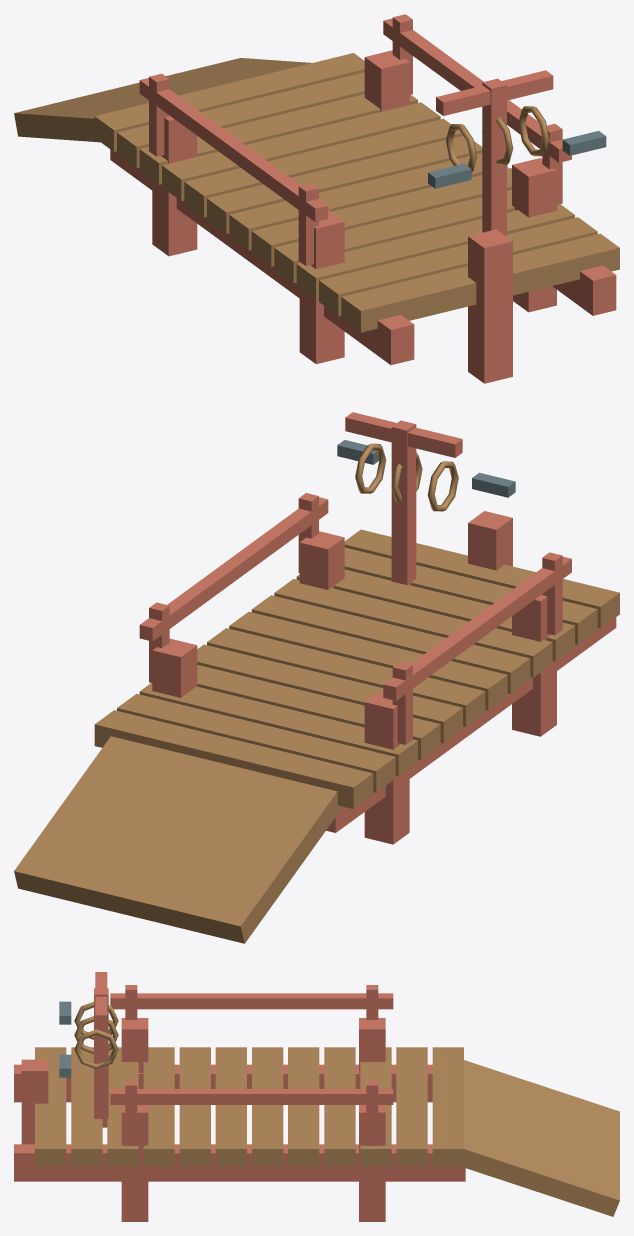
Rendered from FishingDock.glb.
3 renders of one model, top to bottom at view 1: azimuth 30°, elevation 25°; view 2: azimuth 150°, elevation 25°; view 3: azimuth 270°, elevation 25°, orthographic. The views are drawn at different scales.
Visible parts, largest first — view 1: hand-pump-static-fishing-dock-pier-planks, hand-pump-static-fishing-dock-weathered-timber, hand-pump-static-fishing-dock-gear-rope, hand-pump-static-fishing-dock-cleat-iron; view 2: hand-pump-static-fishing-dock-pier-planks, hand-pump-static-fishing-dock-weathered-timber, hand-pump-static-fishing-dock-gear-rope, hand-pump-static-fishing-dock-cleat-iron; view 3: hand-pump-static-fishing-dock-pier-planks, hand-pump-static-fishing-dock-weathered-timber, hand-pump-static-fishing-dock-gear-rope, hand-pump-static-fishing-dock-cleat-iron.
Part boxes in pixels (box(x1,y1,x2,y2)): hand-pump-static-fishing-dock-pier-planks: box(14, 53, 619, 332); hand-pump-static-fishing-dock-weathered-timber: box(110, 14, 616, 383); hand-pump-static-fishing-dock-gear-rope: box(445, 106, 549, 172); hand-pump-static-fishing-dock-cleat-iron: box(428, 131, 606, 188); hand-pump-static-fishing-dock-pier-planks: box(14, 529, 619, 943); hand-pump-static-fishing-dock-weathered-timber: box(139, 412, 616, 844); hand-pump-static-fishing-dock-gear-rope: box(355, 443, 458, 511); hand-pump-static-fishing-dock-cleat-iron: box(337, 440, 515, 497); hand-pump-static-fishing-dock-pier-planks: box(35, 1047, 619, 1216); hand-pump-static-fishing-dock-weathered-timber: box(14, 972, 465, 1221); hand-pump-static-fishing-dock-gear-rope: box(74, 1002, 118, 1069); hand-pump-static-fishing-dock-cleat-iron: box(59, 1001, 71, 1077).
Size of the model in its own units: 2.01 by 1.84 by 5.03.
